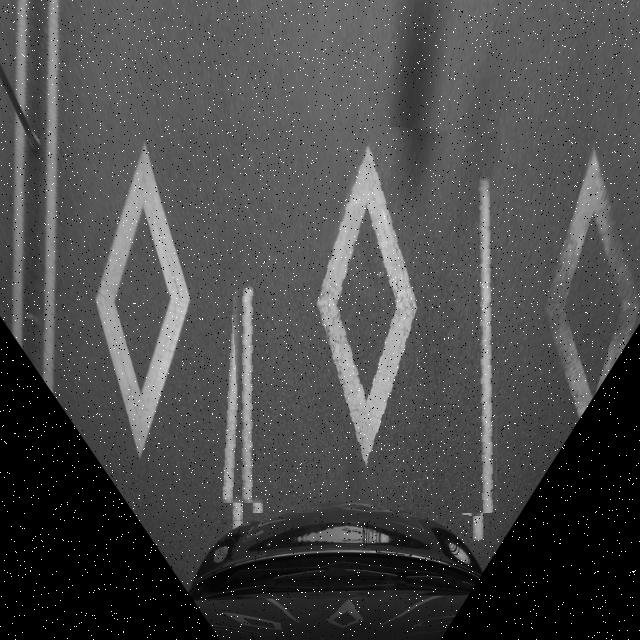diamond: (223, 123, 497, 513)
